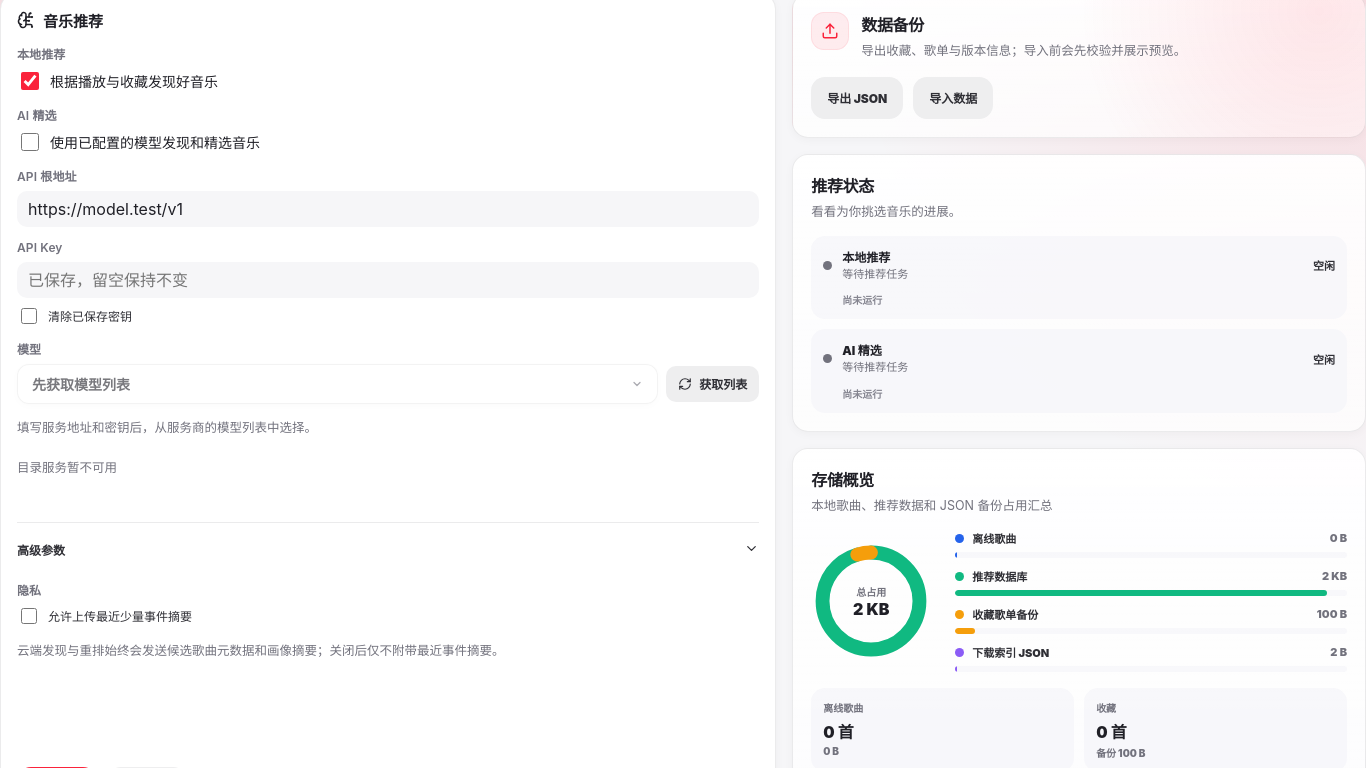
Test: 设置页面真实控件 › 模型目录请求失败显示原因，重新获取后清除错误
Check: the message "目录服务暂不可用" is shown, box [17,460,117,475]
Click the button "获取列表": click(713, 384) [666,366,759,402]
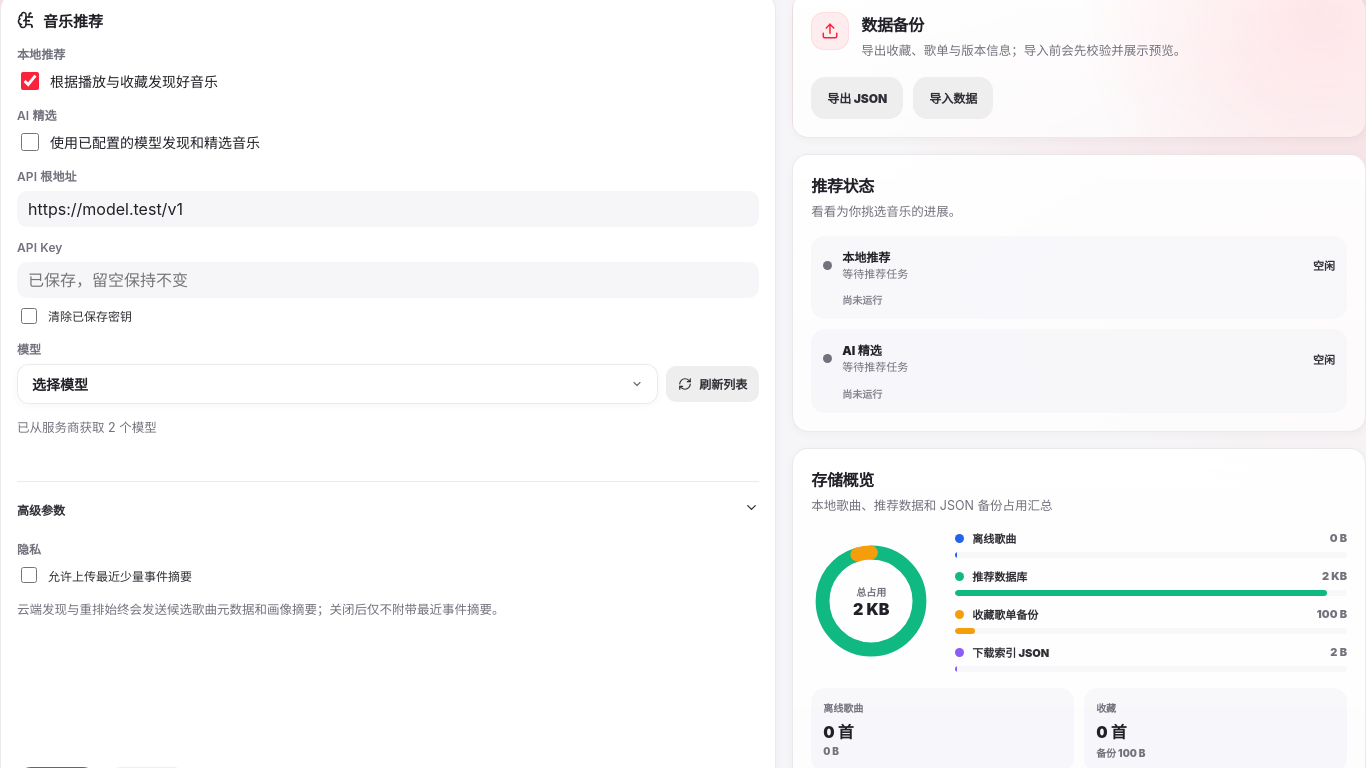
Check: the text "已从服务商获取 2 个模型" is shown, box [17,420,157,434]
Click the button labelled "选择模型": click(60, 384) [17,364,658,404]
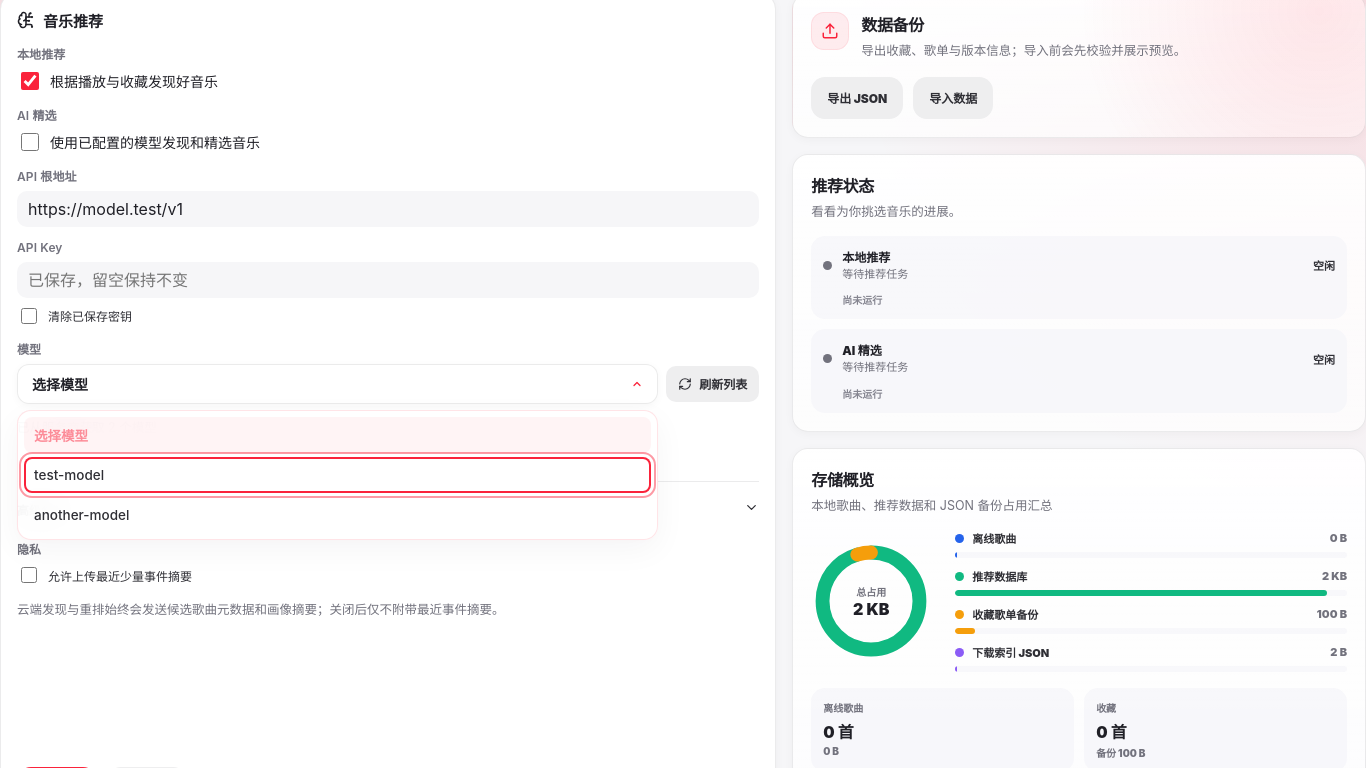
Check: the message "目录服务暂不可用" is not shown
Check: the option "test-model" is shown, box [24,456,651,492]
